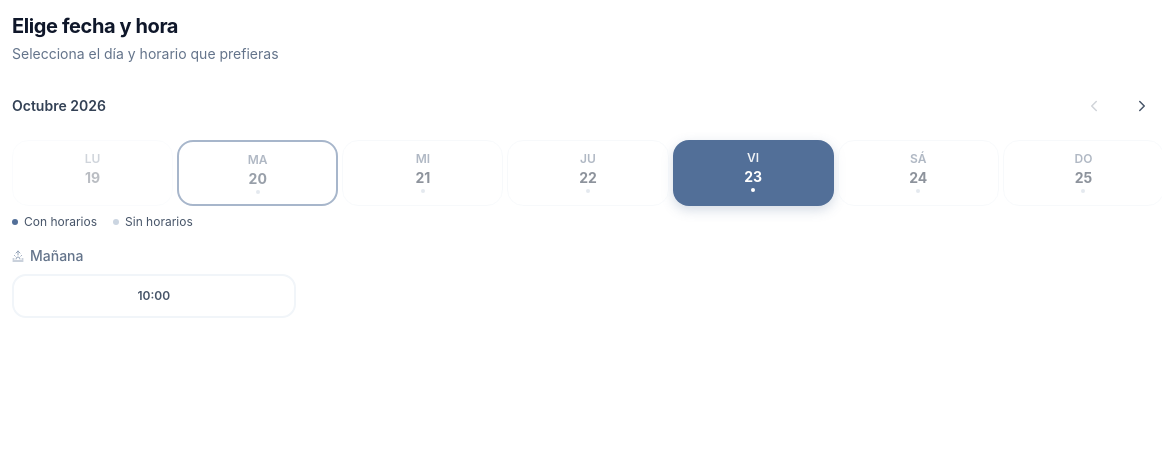
Test: PasoFechaHora — disponibilidad de la semana › un día sin disponibilidad lo dice al elegirlo y pide escoger otro
Click the button "Mi 21" at {"x": 423, "y": 173}, box x1=342 y1=140 x2=503 y2=206
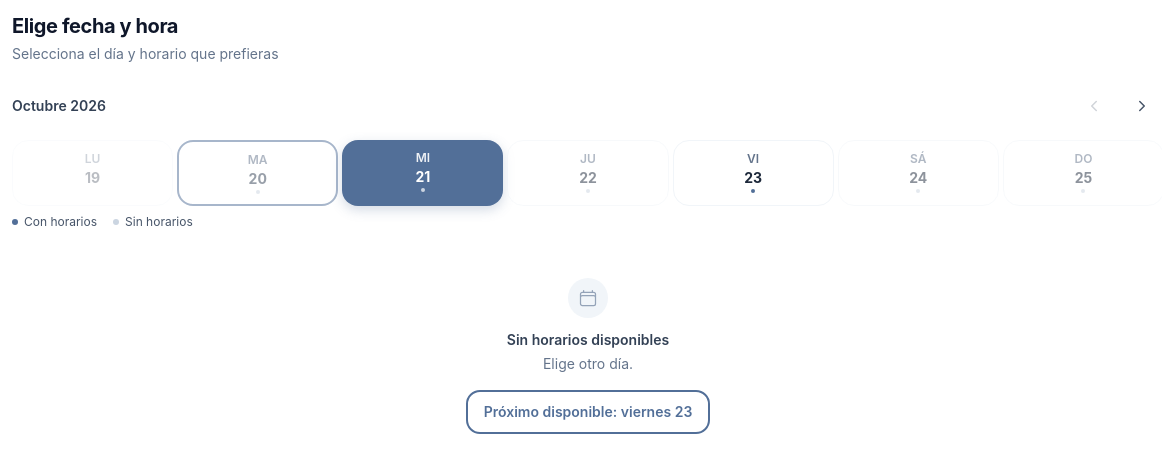
Result: the message shows "Sin horarios disponibles" at x1=507 y1=331 x2=669 y2=348
Result: the message shows "Elige otro día." at x1=543 y1=355 x2=633 y2=372
Result: the button "Próximo disponible: viernes 23" is shown at x1=466 y1=390 x2=710 y2=434
